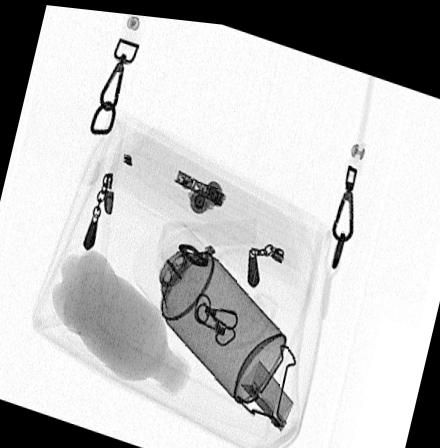Sprayer: (131, 212, 288, 397)
